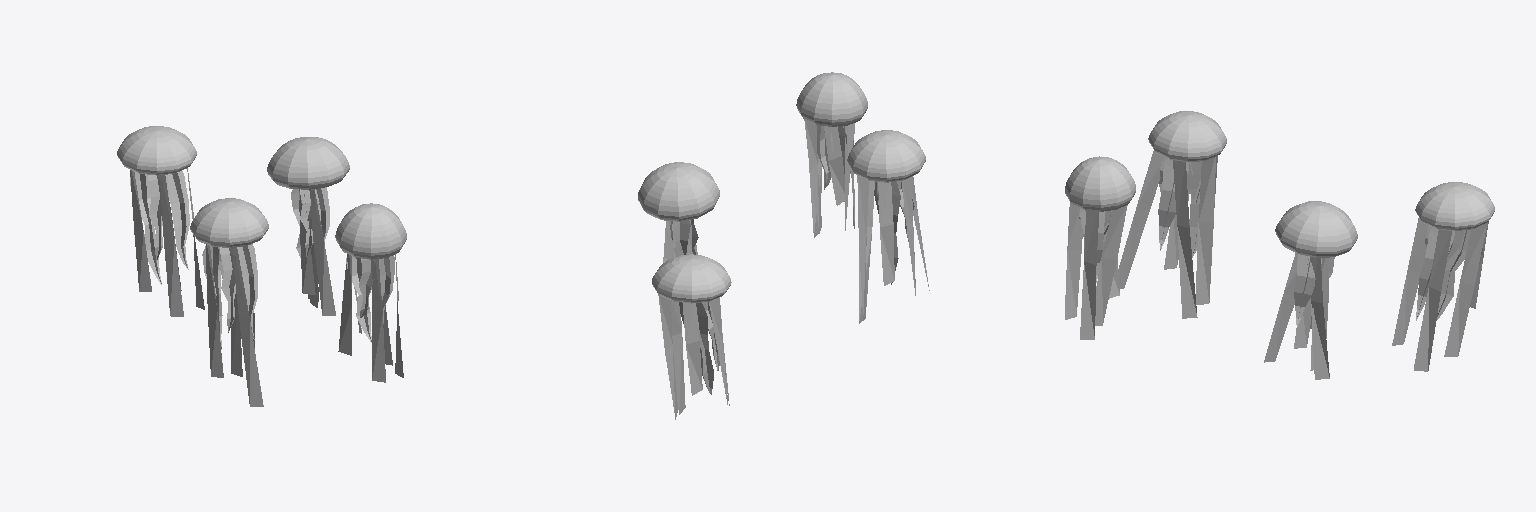
The model's file is stg510_MotJellyFishAb_14.obj.
3 views of the same model, side by side, from view 1: azimuth 30°, elevation 25°; view 2: azimuth 150°, elevation 25°; view 3: azimuth 270°, elevation 25° (orthographic).
Visible parts, largest first — view 1: polygon19, polygon29, polygon9, polygon39, polygon34, polygon4, polygon3, polygon24, polygon14, polygon35, polygon5, polygon1 (+11 smaller); view 2: polygon19, polygon39, polygon29, polygon9, polygon36, polygon6, polygon37, polygon8, polygon26, polygon7, polygon1, polygon27 (+3 smaller); view 3: polygon19, polygon39, polygon29, polygon9, polygon37, polygon38, polygon8, polygon7, polygon28, polygon34, polygon27, polygon4 (+9 smaller).
Boxes of the visible parts, x1,y1,x2,y2 form: polygon19: [267, 137, 349, 189]; polygon29: [335, 203, 406, 259]; polygon9: [117, 126, 196, 175]; polygon39: [190, 198, 268, 247]; polygon34: [232, 247, 263, 406]; polygon4: [160, 174, 183, 316]; polygon3: [166, 171, 189, 269]; polygon24: [372, 258, 385, 382]; polygon14: [310, 189, 335, 315]; polygon35: [206, 244, 223, 377]; polygon5: [130, 170, 151, 291]; polygon1: [130, 171, 161, 284]; polygon19: [638, 162, 719, 221]; polygon39: [847, 130, 925, 182]; polygon29: [796, 72, 867, 126]; polygon9: [652, 254, 731, 303]; polygon36: [878, 182, 894, 285]; polygon6: [682, 301, 702, 395]; polygon37: [857, 176, 868, 320]; polygon8: [671, 300, 685, 414]; polygon26: [824, 126, 844, 205]; polygon7: [658, 294, 677, 419]; polygon1: [696, 303, 713, 394]; polygon27: [804, 120, 821, 233]; polygon19: [1275, 201, 1357, 257]; polygon39: [1148, 111, 1226, 161]; polygon29: [1065, 156, 1135, 211]; polygon9: [1415, 182, 1494, 230]; polygon37: [1196, 157, 1215, 304]; polygon38: [1173, 160, 1197, 318]; polygon8: [1414, 230, 1451, 371]; polygon7: [1444, 223, 1486, 356]; polygon28: [1080, 211, 1098, 339]; polygon34: [1118, 151, 1164, 288]; polygon27: [1095, 205, 1127, 325]; polygon4: [1392, 218, 1427, 345].
Size of the model in its own units: 401 by 391 by 701.